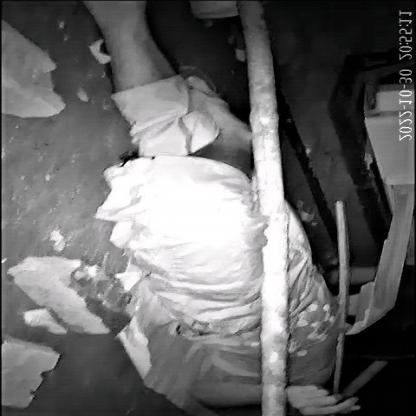hand: (191, 368, 366, 416)
